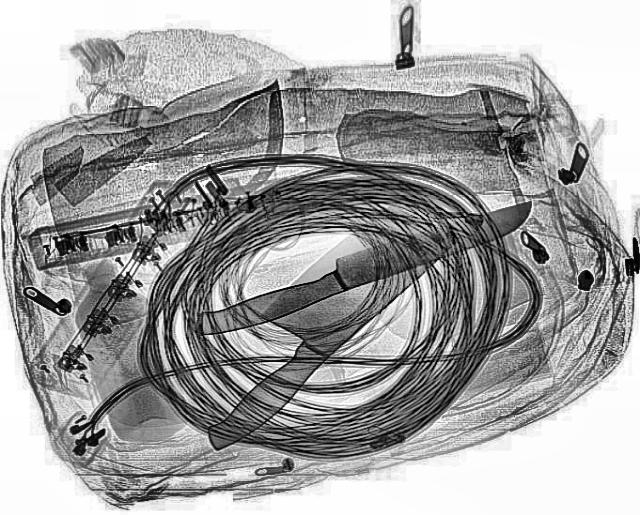Knife: (150, 196, 460, 458), (180, 192, 546, 345)
